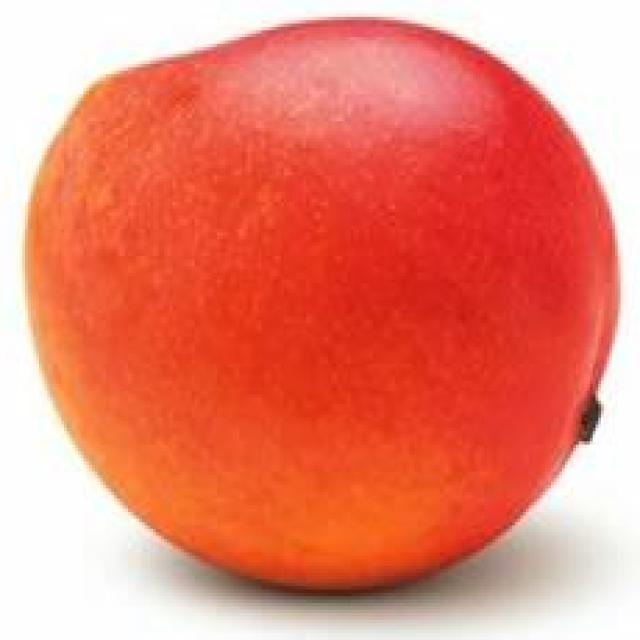mango: (14, 4, 612, 596)
